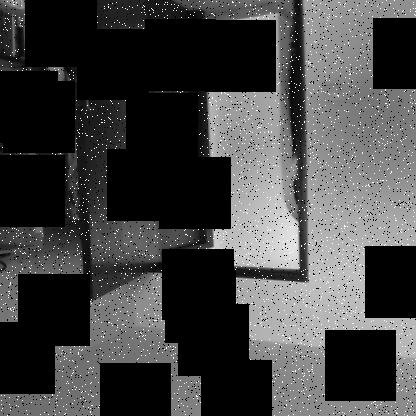Porte: (77, 0, 312, 302)
